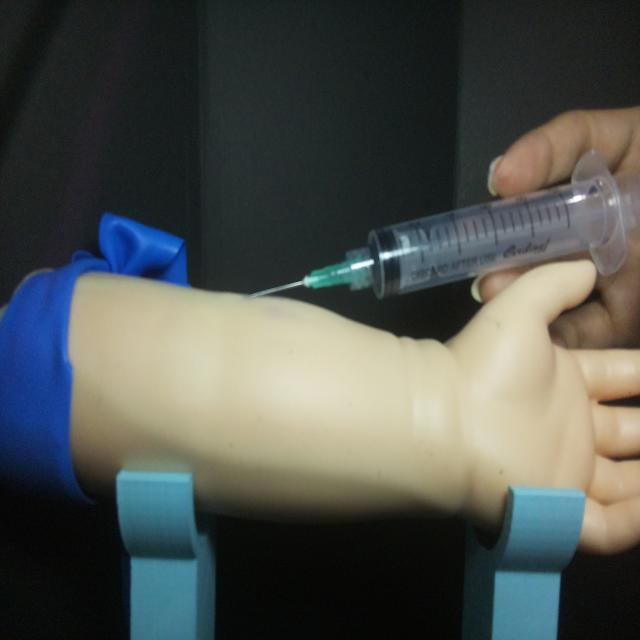20deg: (242, 146, 634, 308)
